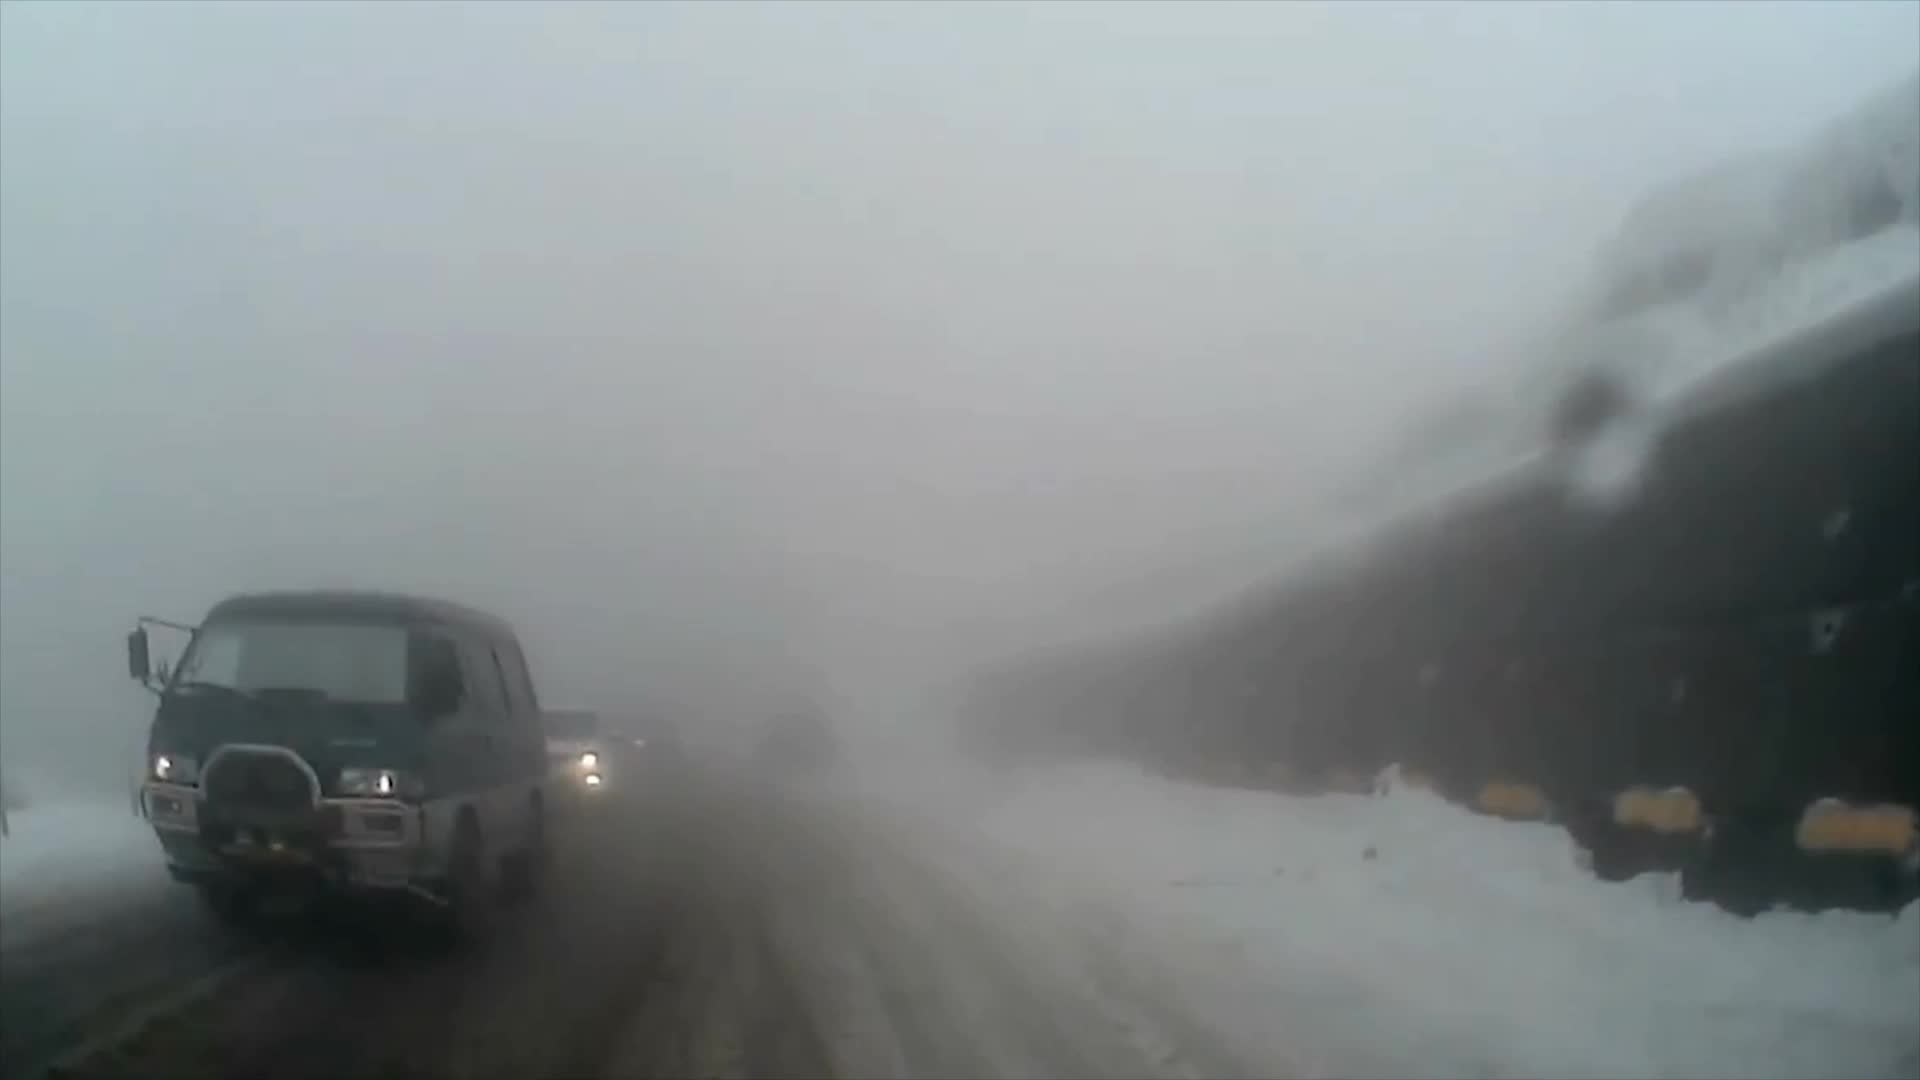vehicle: (121, 583, 550, 968), (502, 702, 620, 811)
